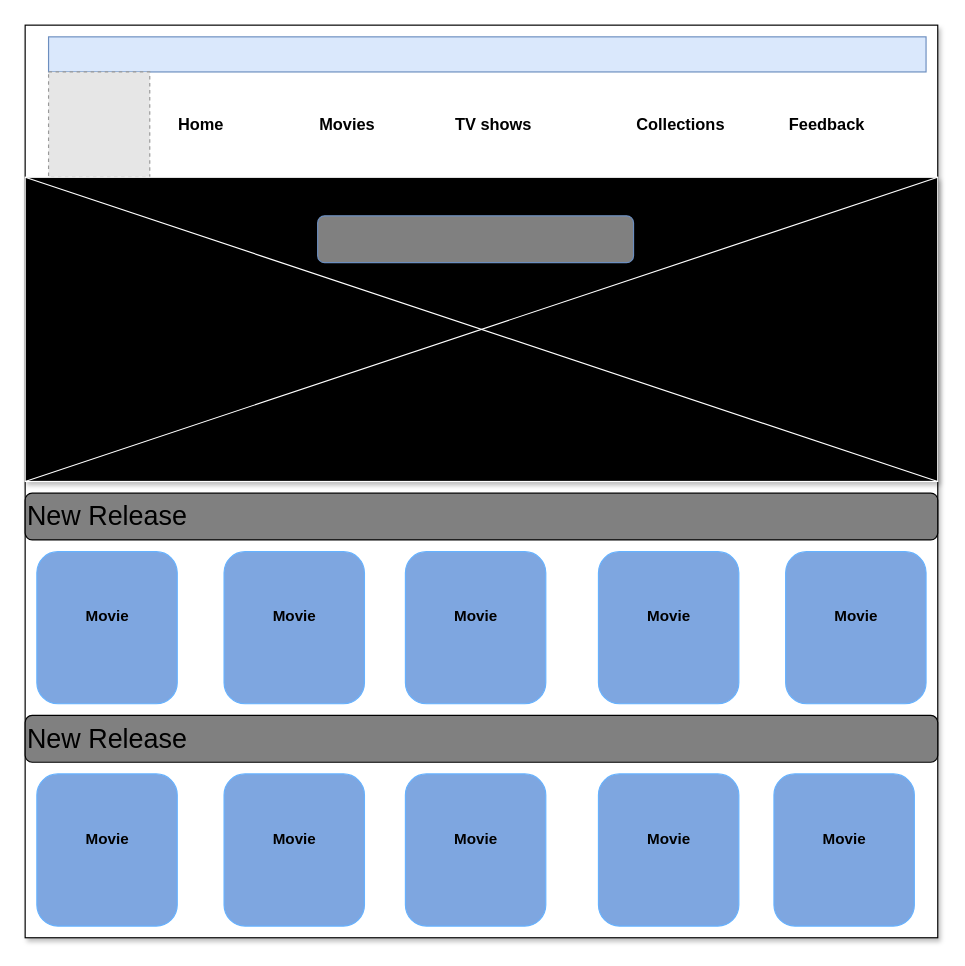
Image size: 965x966. Some labels were removed from this diagram. Grey dashed boxes stand in for pictures. Here are the shapes that lost their labels. From the top down, the centre of each, then its label:
At pixel 486 54: "Http:// Warnerbros.com".
At pixel 475 239: "Movie Hero(Banner)".
